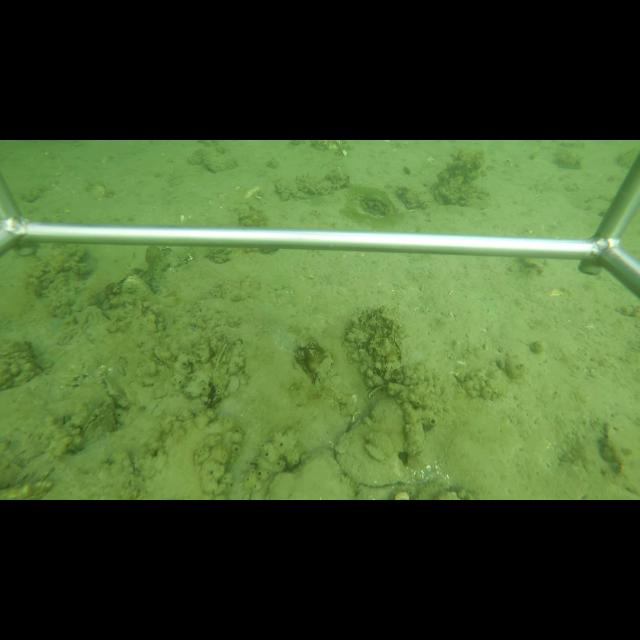Oyster-Closed: (332, 401, 410, 488), (264, 450, 363, 500), (80, 398, 118, 442), (200, 145, 239, 174), (408, 420, 428, 457)
Oyster-Open: (198, 336, 232, 411)
